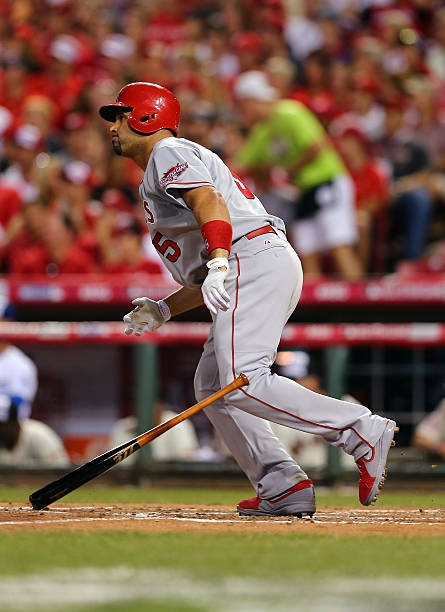bita: (29, 370, 250, 505)
